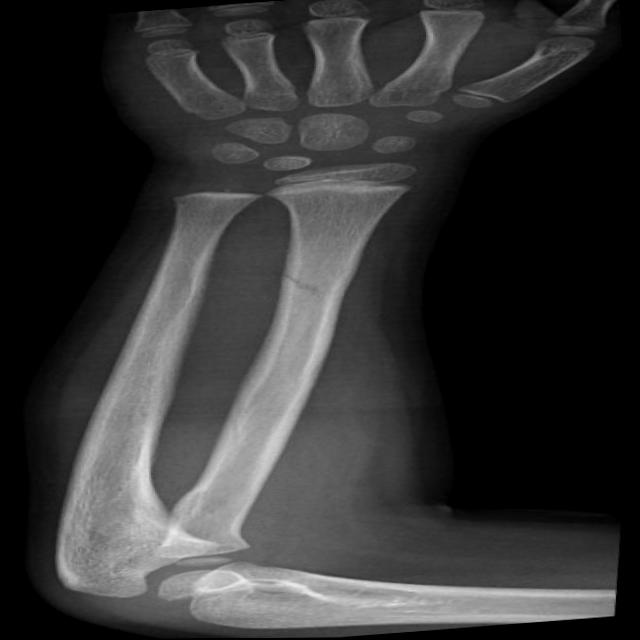Oblique Displaced: (240, 256, 382, 330)
